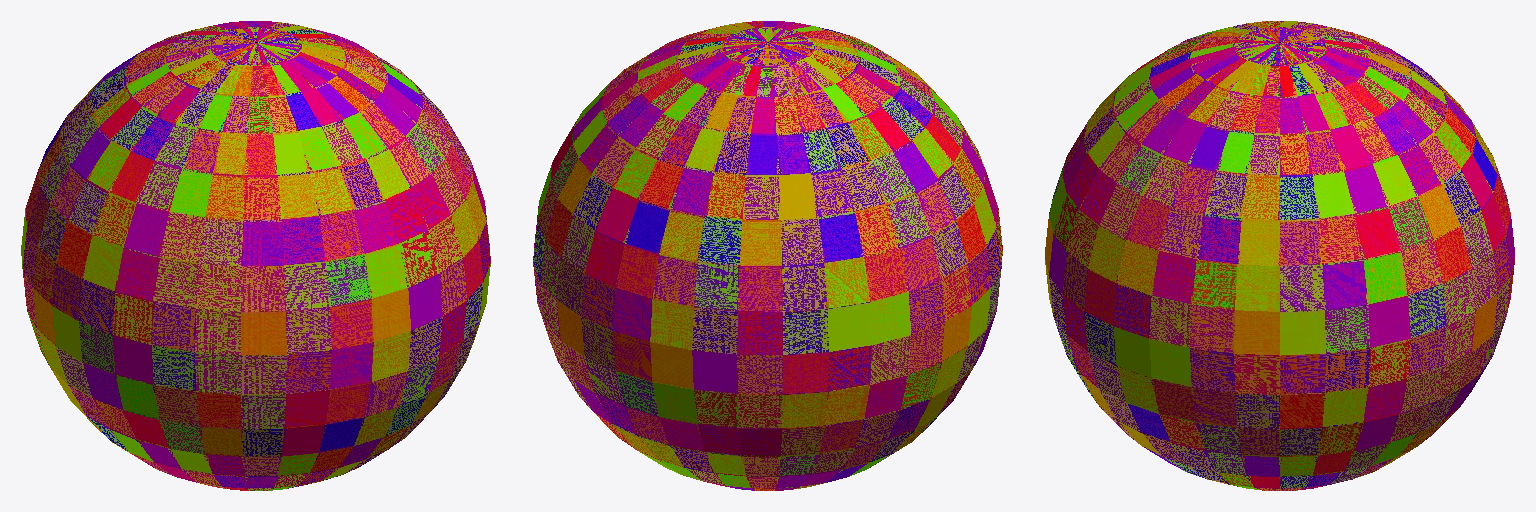
3 views of the same model, side by side, from view 1: azimuth 30°, elevation 25°; view 2: azimuth 150°, elevation 25°; view 3: azimuth 270°, elevation 25° (orthographic).
Parts seen in each view (by area): view 1: Sphere; view 2: Sphere; view 3: Sphere.
Boxes of the visible parts, x1,y1,x2,y2 form: Sphere: [21, 21, 490, 490]; Sphere: [533, 21, 1002, 490]; Sphere: [1045, 21, 1514, 490].
Size of the model in its own units: 2 by 2 by 2.
Materials: 1 (1 with a texture image).